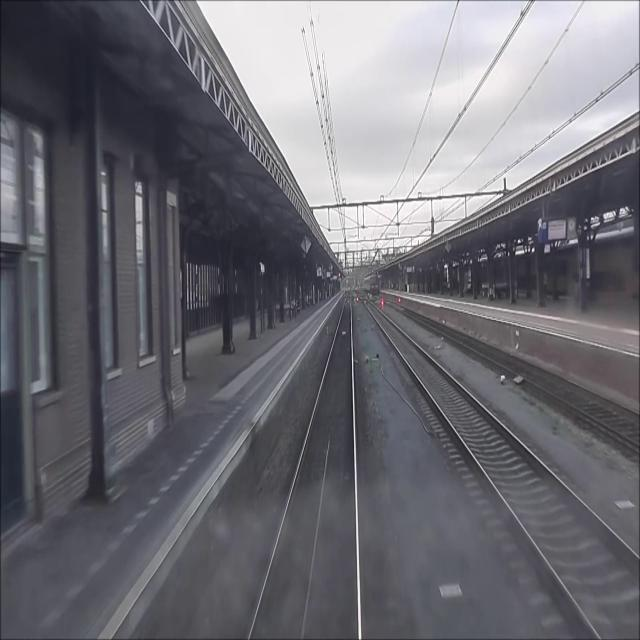rail-track: (356, 289, 640, 639), (249, 291, 357, 639), (406, 310, 640, 442)
